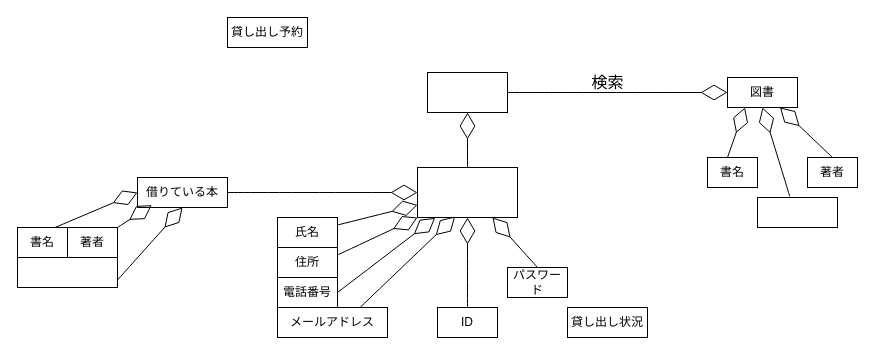
This 875x355 diagram has some shape labels left out. The shapes that lost their labels are listed below. From the top down, each one's centre as x and y in pixels, then its label:
At (467,92): "利用者".
At (467,192): "図書カード".
At (797,212): "どこの棚にあるか".
At (67,272): "貸し出し期限".
